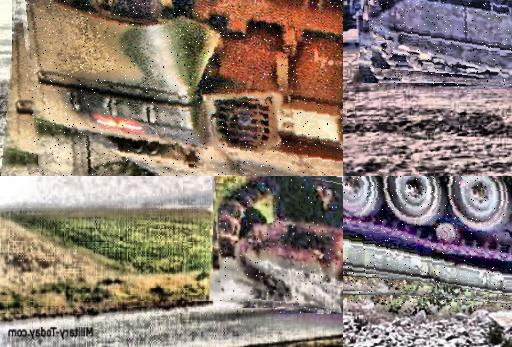tanks: (26, 1, 344, 177), (344, 177, 512, 298), (219, 177, 344, 314), (369, 1, 512, 84)
